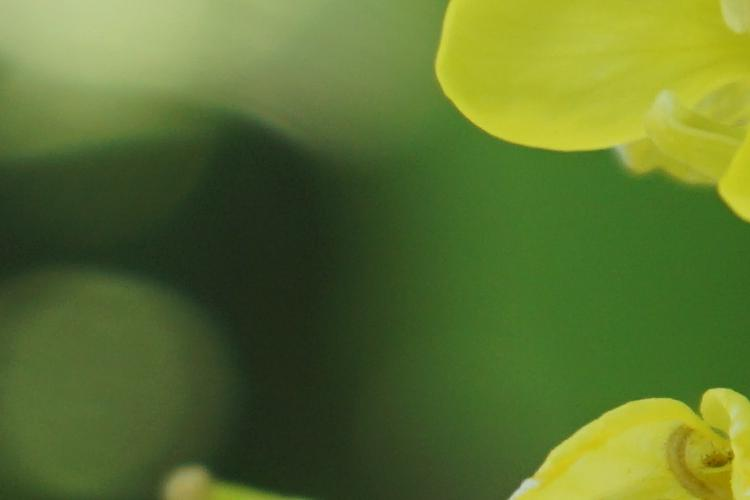yellow: (436, 6, 750, 225), (495, 376, 750, 499)
